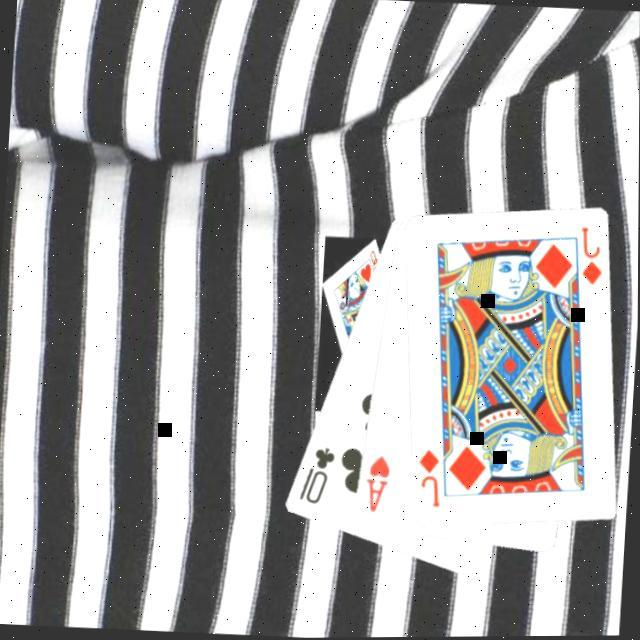10C: (296, 445, 339, 511)
AH: (362, 455, 394, 518)
JD: (414, 448, 447, 513), (576, 226, 608, 292)
